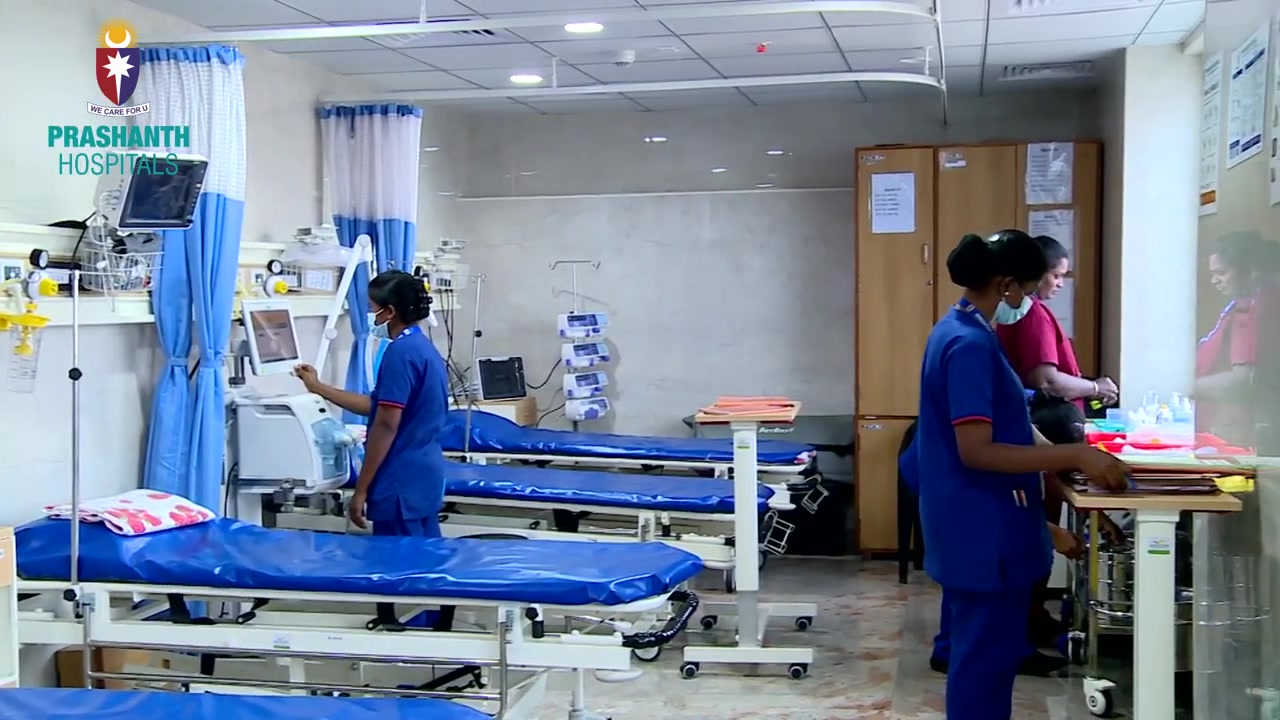bedrail: (77, 608, 510, 697)
bedside_monitor: (117, 156, 207, 233), (241, 300, 302, 369), (474, 354, 527, 400)
curtain: (139, 44, 247, 668), (318, 98, 422, 452)
handle: (921, 243, 931, 266), (861, 423, 885, 430)
hospital_bed: (14, 486, 701, 720), (273, 448, 795, 622), (448, 397, 827, 589), (1, 681, 510, 720)
iv_pole: (27, 269, 125, 582), (463, 273, 488, 451), (545, 259, 606, 309)
overbed_table: (674, 397, 822, 681)
staff: (911, 228, 1057, 720), (294, 271, 457, 627), (904, 386, 1088, 683), (1004, 236, 1120, 645)
syringe_pump: (557, 312, 611, 339), (562, 343, 611, 368), (564, 372, 610, 397), (565, 399, 612, 421)
table: (1046, 443, 1247, 720)
ventilator: (236, 393, 349, 486)
